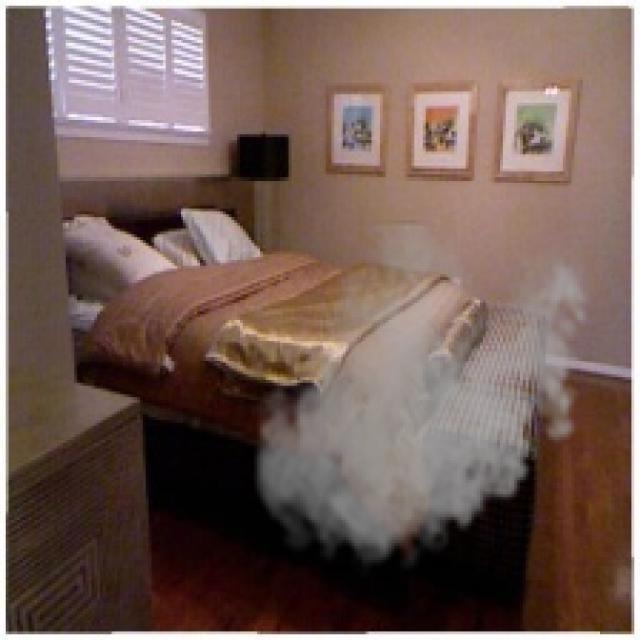smoke: (246, 220, 600, 577)
